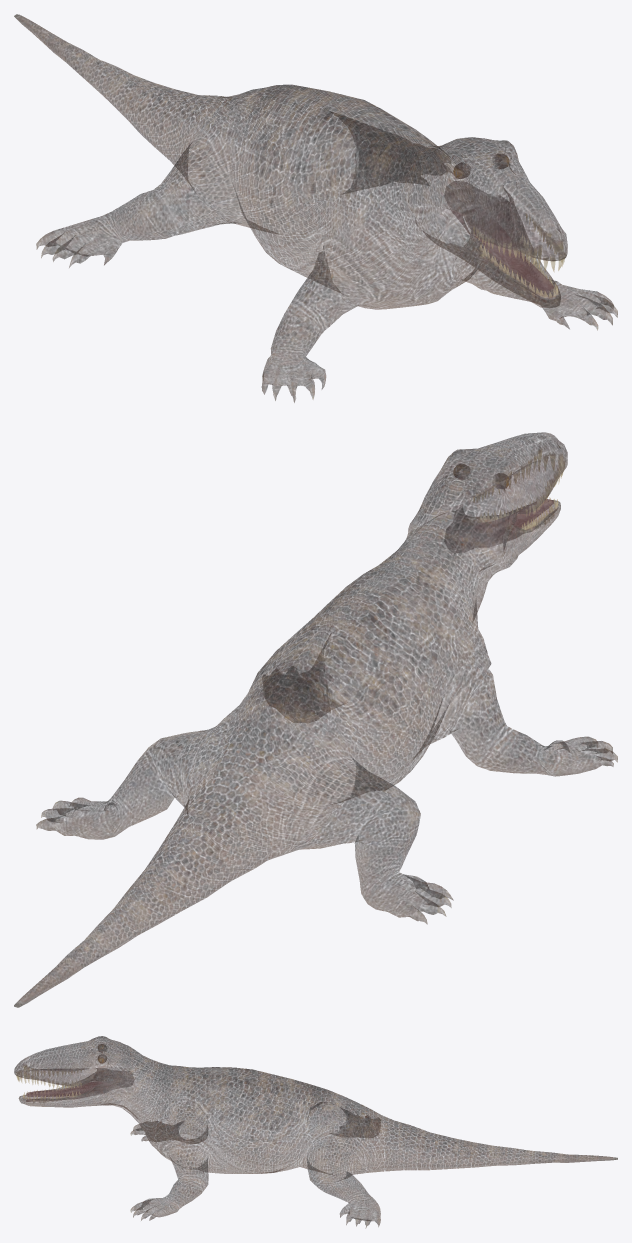
Rendered from ophiacodon.glb.
The picture shows the model from 3 angles, top to bottom: view 1: azimuth 30°, elevation 25°; view 2: azimuth 150°, elevation 25°; view 3: azimuth 270°, elevation 25°; orthographic projection. The views are drawn at different scales.
Visible parts, largest first — view 1: Mesh; view 2: Mesh; view 3: Mesh.
Part boxes in pixels (<box>): Mesh: <box>14,14,617,402</box>; Mesh: <box>14,432,617,1007</box>; Mesh: <box>14,1036,617,1228</box>.
Bounding box in the file's own units: 2.75 × 1.56 × 6.4.
Materials: 1 (1 with a texture image).
